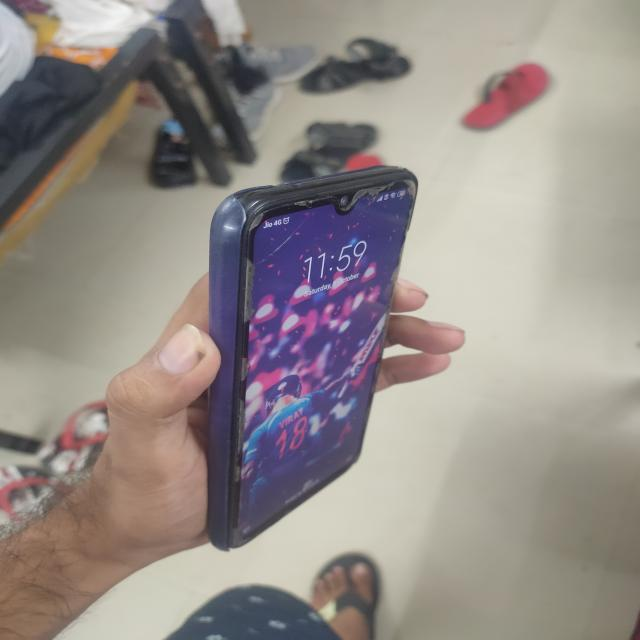Phone: (202, 163, 420, 554)
